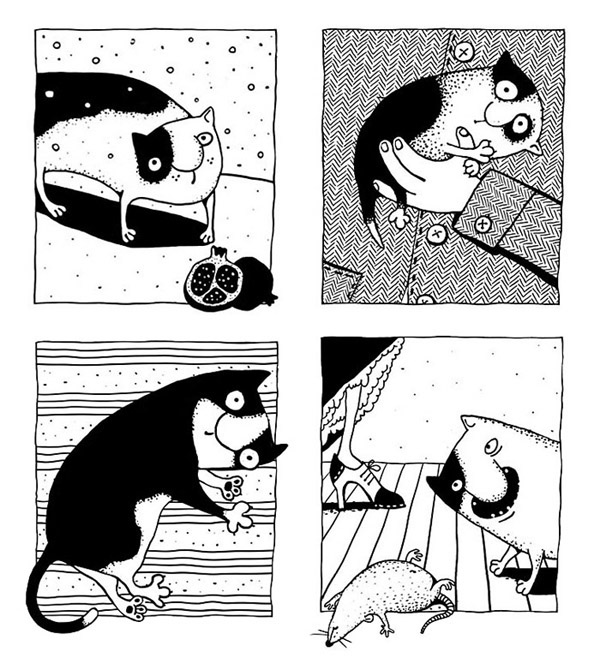cat: (46, 361, 302, 603), (39, 72, 225, 258), (344, 62, 545, 208), (411, 420, 550, 573)
